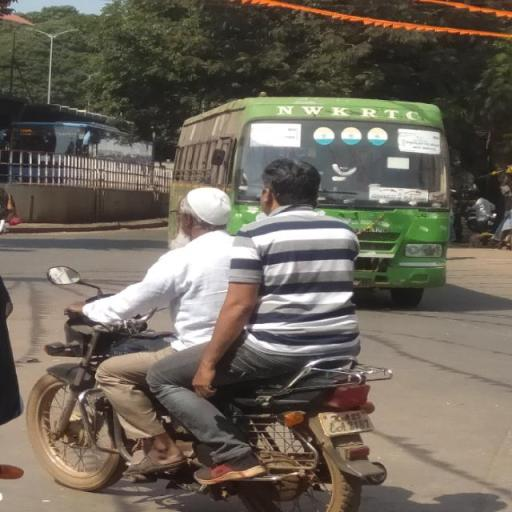bike: (22, 152, 403, 512)
numberplate: (316, 400, 382, 442)
withouthelmet: (260, 160, 322, 208), (178, 191, 228, 238)
